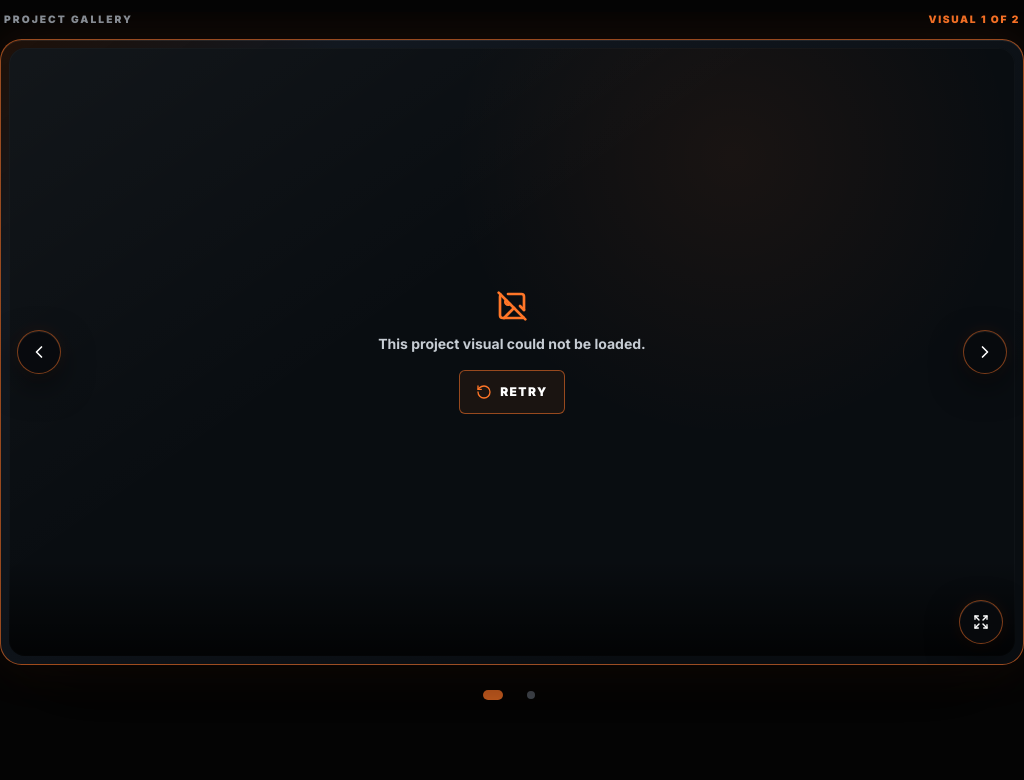
Scenario: ProjectGallery › shows a retry action after an actual image error
This screenshot has width=1024, height=780.
Expected: the text "This project visual could not be loaded." is shown, [378,334,646,354]
Click the button "Retry" at (512, 392), box [459,370,565,414]
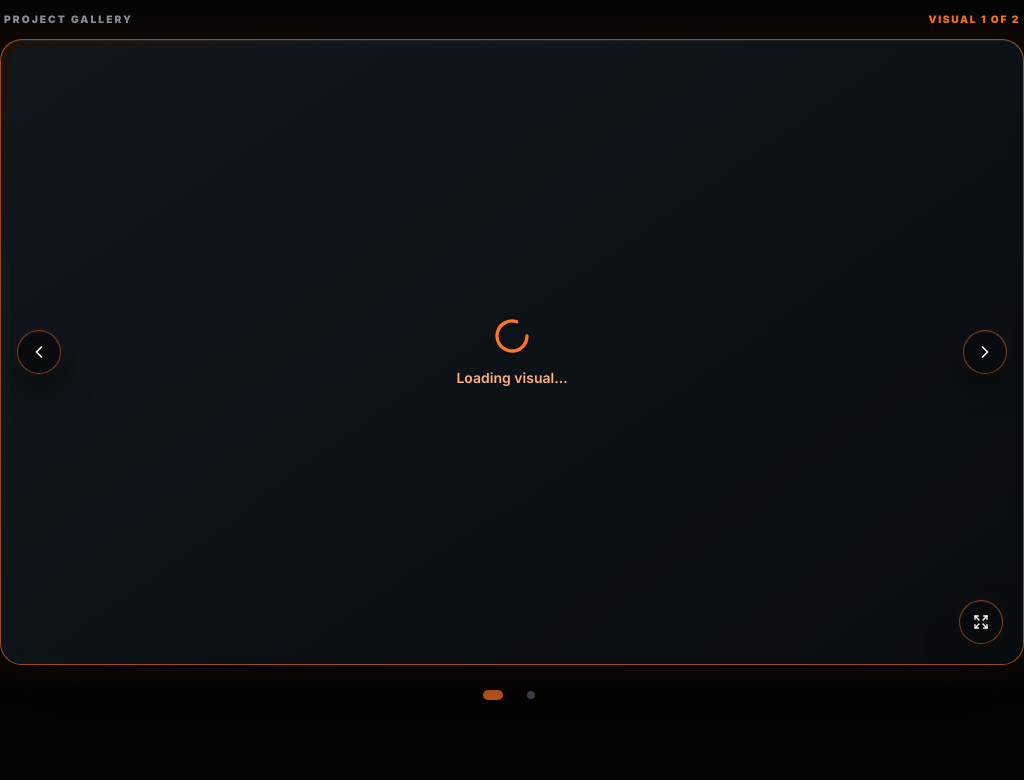
Expected: the message named "Loading Test Project — Visual 1 of 2" is shown
